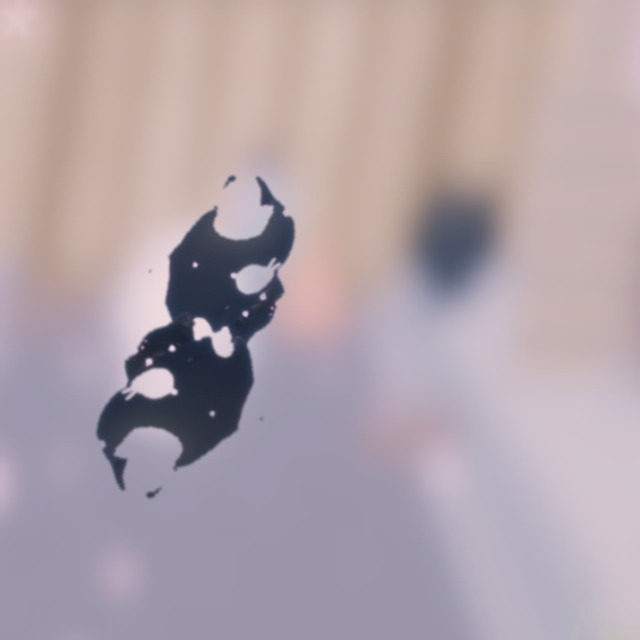urso_preto: (25, 256, 324, 552), (103, 127, 359, 403)
